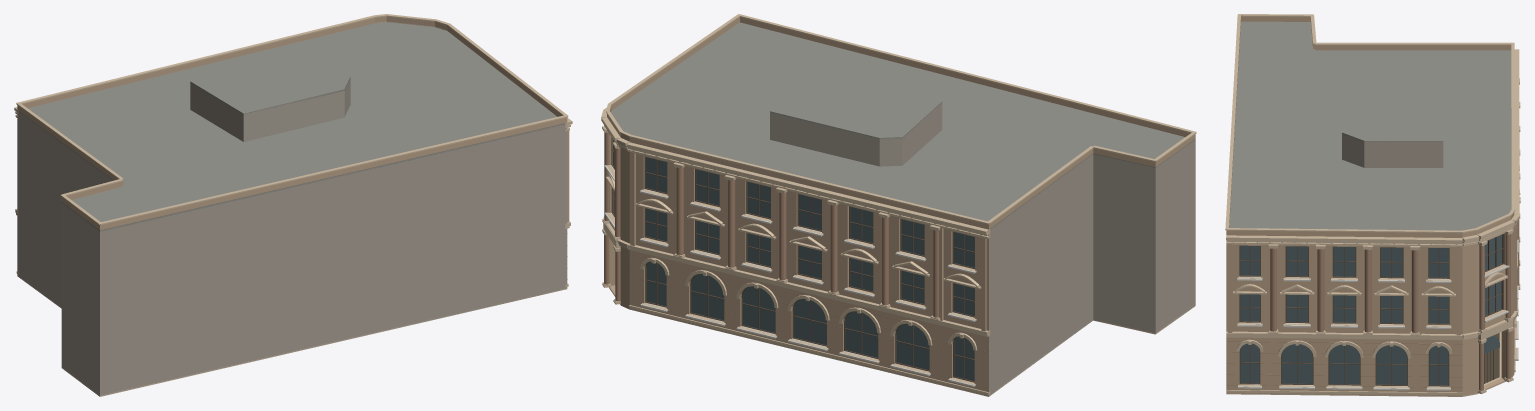
The model's file is huangpu-yongnian-life-insurance-building-lod.glb.
3 renders of one model, left to right at view 1: azimuth 30°, elevation 25°; view 2: azimuth 150°, elevation 25°; view 3: azimuth 270°, elevation 25°, orthographic. The views are drawn at different scales.
Parts seen in each view (by area): view 1: 永年人寿保险公司大楼（广东路93号）; view 2: 永年人寿保险公司大楼（广东路93号）; view 3: 永年人寿保险公司大楼（广东路93号）.
Part boxes in pixels (box(x1,y1,x2,y2)): 永年人寿保险公司大楼（广东路93号）: box(14, 14, 572, 396); 永年人寿保险公司大楼（广东路93号）: box(601, 14, 1196, 396); 永年人寿保险公司大楼（广东路93号）: box(1225, 14, 1520, 396).
Bounding box in the file's own units: 47.87 × 18.89 × 27.13.
